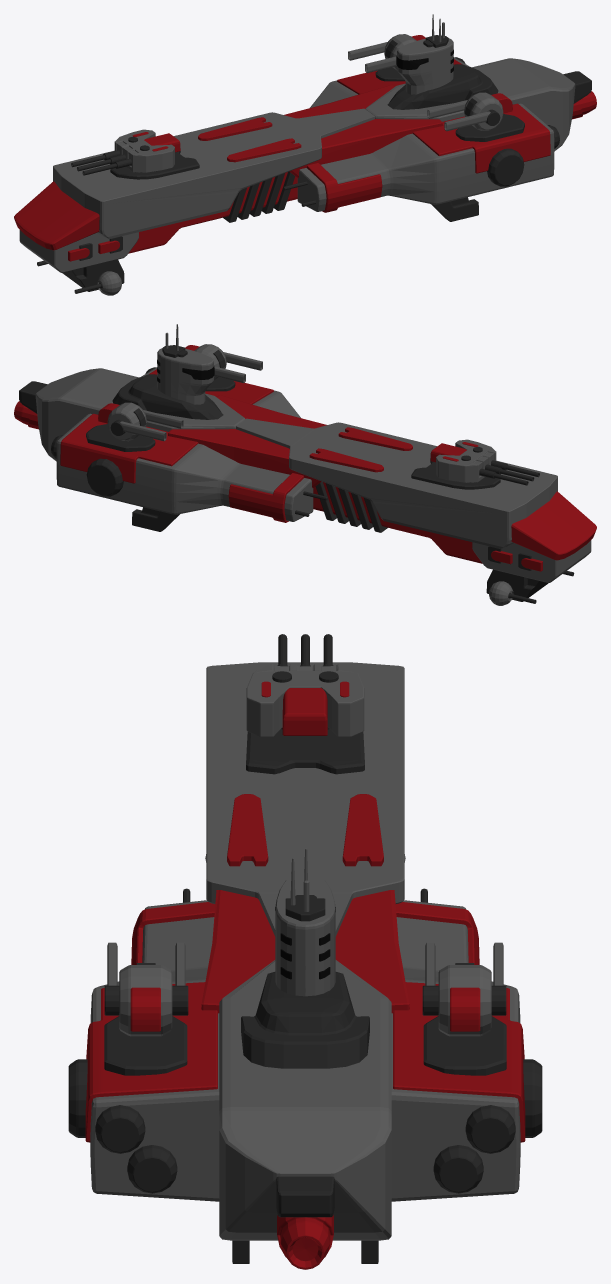
The model's file is fga_croiseur4.glb.
The picture shows the model from 3 angles, top to bottom: view 1: azimuth 30°, elevation 25°; view 2: azimuth 150°, elevation 25°; view 3: azimuth 270°, elevation 25°; orthographic projection. The views are drawn at different scales.
Visible parts, largest first — view 1: Light_Cruiser_4; view 2: Light_Cruiser_4; view 3: Light_Cruiser_4.
Boxes of the visible parts, bbox=[...] form: Light_Cruiser_4: bbox=[14, 14, 596, 295]; Light_Cruiser_4: bbox=[14, 324, 596, 605]; Light_Cruiser_4: bbox=[68, 634, 542, 1269].
Size of the model in its own units: 7677 by 2531 by 2792.
Materials: 1 (1 with a texture image).
